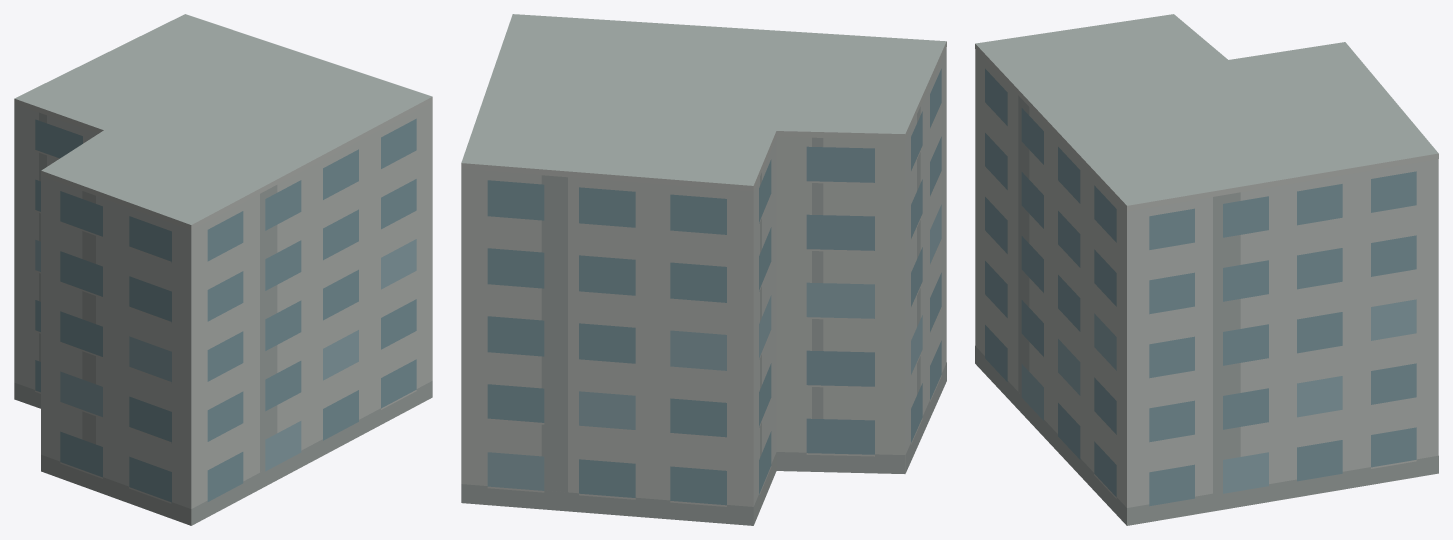
The model's file is survey-upis-32549043.glb.
3 views of the same model, side by side, from view 1: azimuth 30°, elevation 25°; view 2: azimuth 150°, elevation 25°; view 3: azimuth 270°, elevation 25° (orthographic). The views are drawn at different scales.
Visible parts, largest first — view 1: survey-upis-32549043.tmp; view 2: survey-upis-32549043.tmp; view 3: survey-upis-32549043.tmp.
Part boxes in pixels (x1=…): survey-upis-32549043.tmp: x1=14, y1=14, x2=432, y2=525; survey-upis-32549043.tmp: x1=461, y1=14, x2=946, y2=525; survey-upis-32549043.tmp: x1=975, y1=14, x2=1438, y2=525.
Size of the model in its own units: 18.13 by 14.1 by 18.52.
